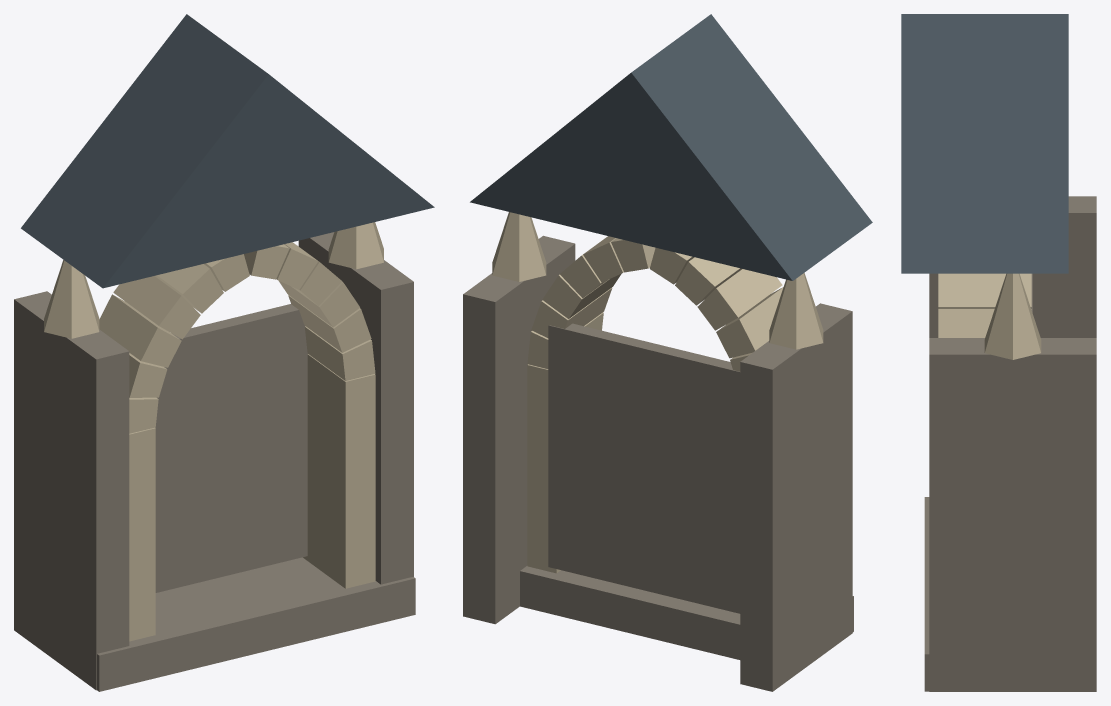
File: HeartBlindBay_LOD2.fbx
3 renders of one model, left to right at view 1: azimuth 30°, elevation 25°; view 2: azimuth 150°, elevation 25°; view 3: azimuth 270°, elevation 25°, orthographic. The views are drawn at different scales.
Visible parts, largest first — view 1: HeartBlindBay_LOD2; view 2: HeartBlindBay_LOD2; view 3: HeartBlindBay_LOD2.
Part boxes in pixels (x1,y1,x2,y2): HeartBlindBay_LOD2: (14, 14, 434, 691); HeartBlindBay_LOD2: (463, 14, 872, 691); HeartBlindBay_LOD2: (901, 14, 1096, 691).
Bounding box in the file's own units: 430 × 710 × 210.
